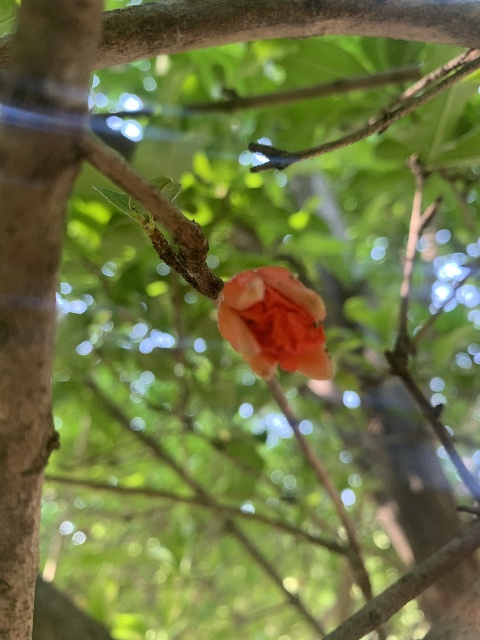flower: (217, 266, 333, 381)
